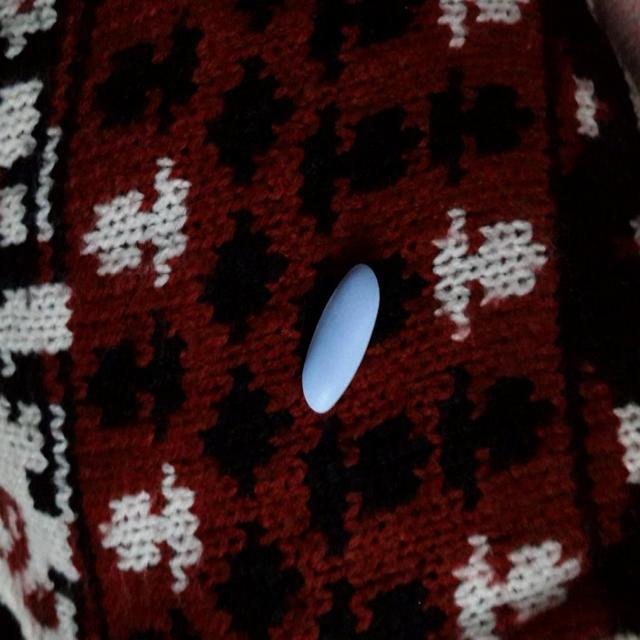pill: (297, 264, 382, 416)
